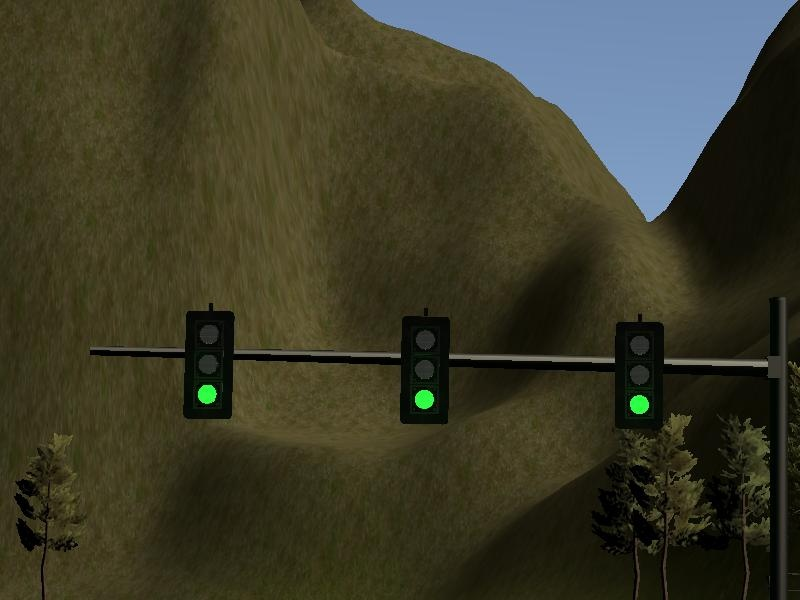GREEN: (615, 322, 665, 429), (400, 316, 450, 423), (184, 312, 234, 419)
